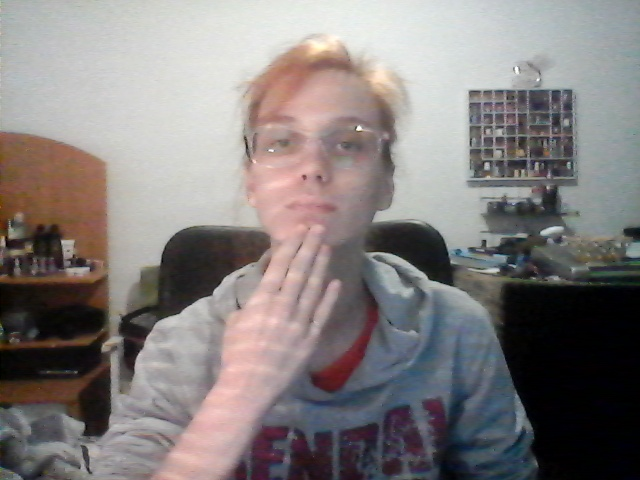dakujem: (212, 219, 348, 405)
